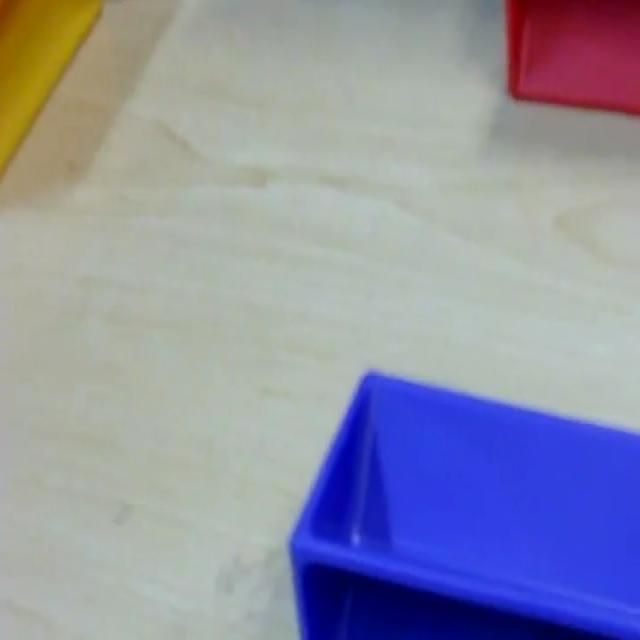blue_block: (286, 365, 638, 636)
red_block: (504, 0, 638, 116)
yellow_block: (0, 0, 103, 177)
